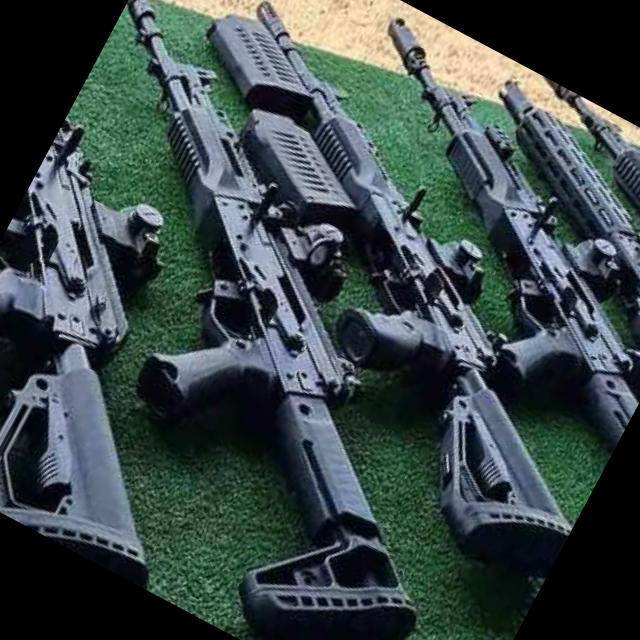Weapon: (7, 0, 640, 604)
